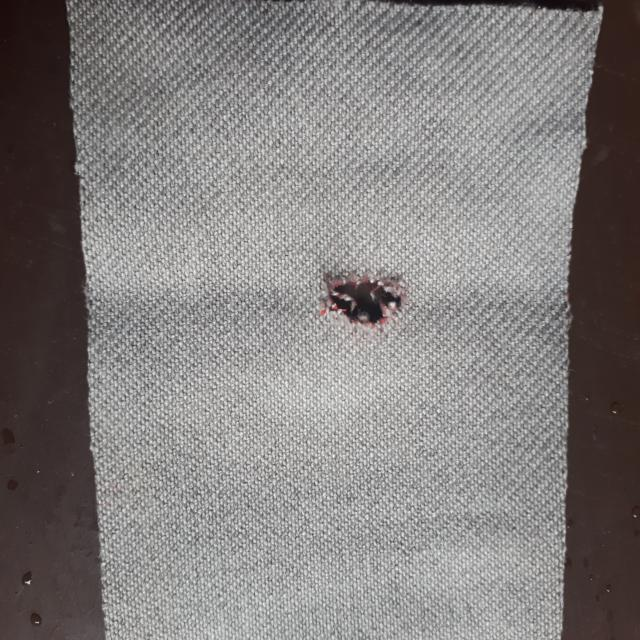other: (321, 275, 405, 328)
